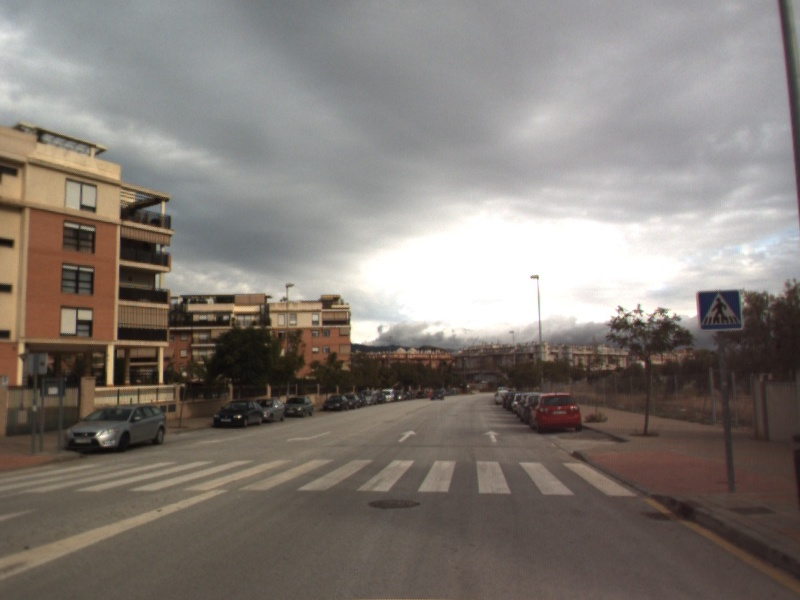STRAIGHT: (396, 428, 419, 444), (481, 428, 502, 444)
